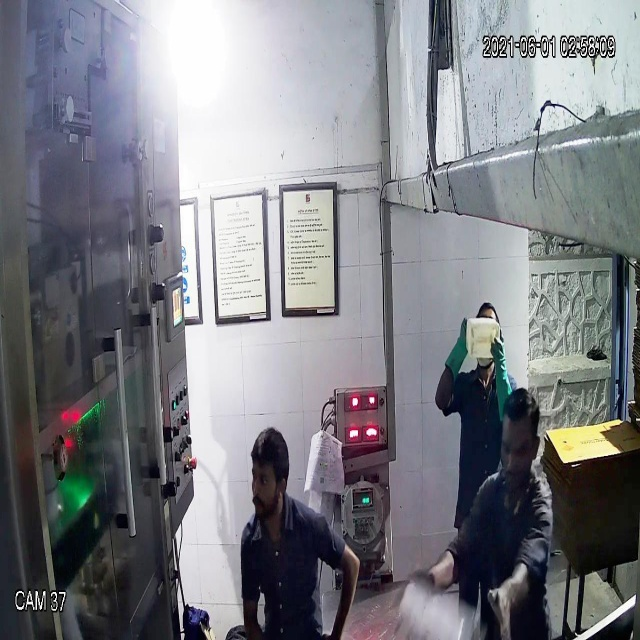Sin_gafas: (493, 435, 539, 466), (246, 465, 285, 496)
